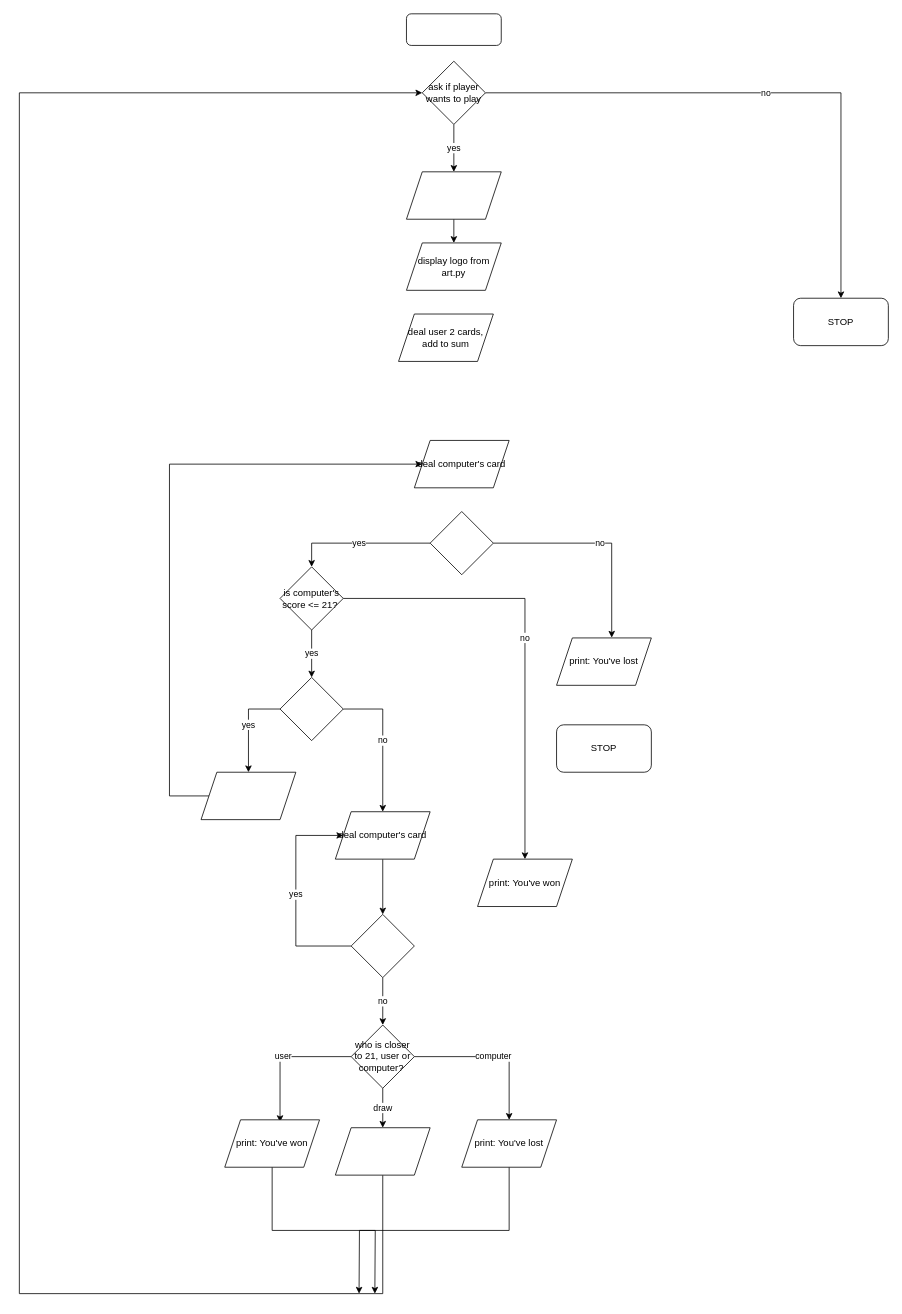
Some shapes in this 902 by 1314 pixel diagram are drawn without their labels. The shapes that lost their labels are listed below. From the top down, each one's centre as x and y in pixels, then its label:
At point (453, 29): "START".
At point (453, 195): "clear screen".
At point (461, 543): "is user's score <= 21 ?".
At point (311, 709): "ask if player wants another card".
At point (248, 795): "deal another card, add to sum".
At point (382, 946): "is computer's score <= 17?".
At point (382, 1151): "print: It's a draw".
